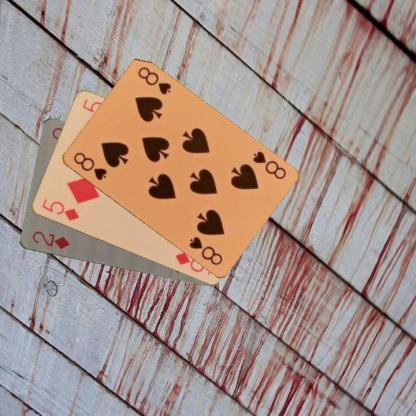2d: (30, 229, 70, 251)
5d: (38, 196, 80, 223)
8s: (70, 149, 108, 182), (250, 148, 288, 181)
